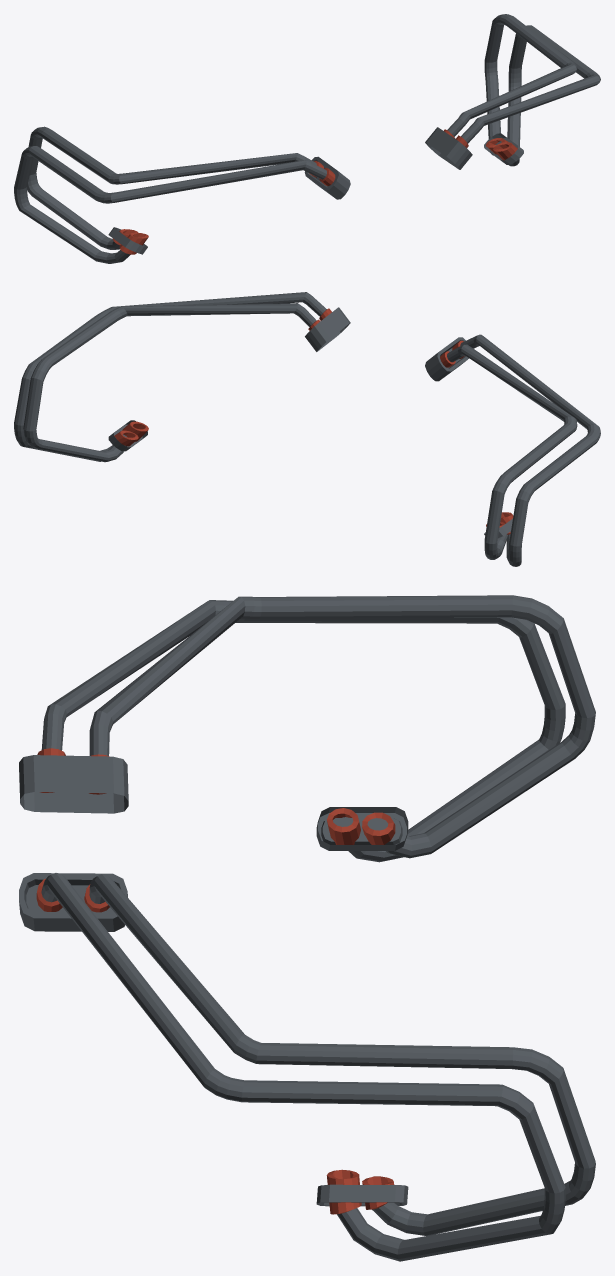
Rendered from Personal_Vehicle_04_Pipes_Red.fbx.
3 renders of one model, top to bottom at view 1: azimuth 30°, elevation 25°; view 2: azimuth 150°, elevation 25°; view 3: azimuth 270°, elevation 25°, orthographic. The views are drawn at different scales.
Parts seen in each view (by area): view 1: Personal_Vehicle_04_Pipes_Red; view 2: Personal_Vehicle_04_Pipes_Red; view 3: Personal_Vehicle_04_Pipes_Red.
Part boxes in pixels (x1,y1,x2,y2): Personal_Vehicle_04_Pipes_Red: (14, 14, 600, 263); Personal_Vehicle_04_Pipes_Red: (14, 292, 600, 566); Personal_Vehicle_04_Pipes_Red: (19, 595, 595, 1261).
Bounding box in the file's own units: 233 × 59.09 × 115.
Materials: 1 (1 with a texture image).
